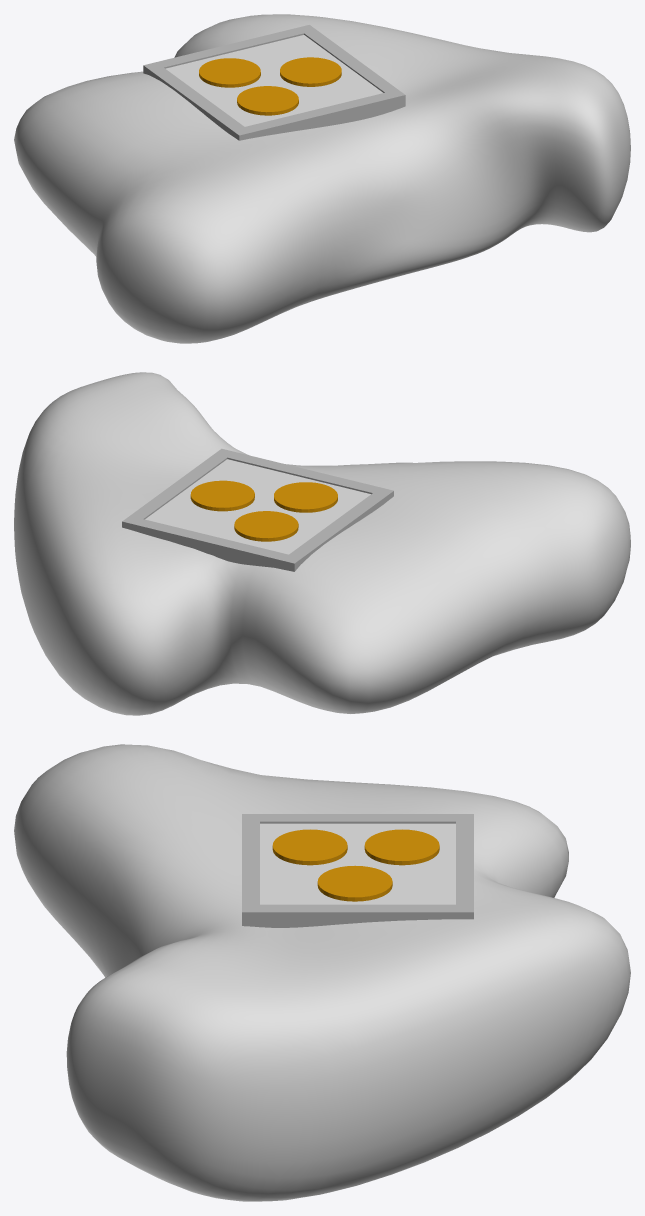
The model's file is Meteor 1.fbx.
The picture shows the model from 3 angles, top to bottom: view 1: azimuth 30°, elevation 25°; view 2: azimuth 150°, elevation 25°; view 3: azimuth 270°, elevation 25°; orthographic projection. The views are drawn at different scales.
Parts seen in each view (by area): view 1: Cube, Cube.010, Cube.007, Cylinder.002, Cylinder.001, Cylinder; view 2: Cube, Cube.010, Cube.007, Cylinder.002, Cylinder, Cylinder.001; view 3: Cube, Cube.010, Cube.007, Cylinder.001, Cylinder, Cylinder.002.
Boxes of the visible parts, x1,y1,x2,y2 form: Cube: (14, 14, 630, 343); Cube.010: (143, 25, 405, 140); Cube.007: (165, 35, 382, 126); Cylinder.002: (280, 57, 341, 86); Cylinder.001: (199, 58, 260, 87); Cylinder: (237, 86, 298, 115); Cube: (14, 372, 630, 715); Cube.010: (122, 448, 393, 571); Cube.007: (145, 459, 370, 554); Cylinder.002: (190, 480, 254, 511); Cylinder: (274, 482, 337, 512); Cylinder.001: (234, 511, 298, 541); Cube: (14, 744, 630, 1201); Cube.010: (242, 814, 473, 927); Cube.007: (260, 823, 455, 904); Cylinder.001: (364, 829, 439, 865); Cylinder: (272, 829, 347, 865); Cylinder.002: (317, 865, 392, 901).
Bounding box in the file's own units: 6.35 × 5.26 × 2.12.
